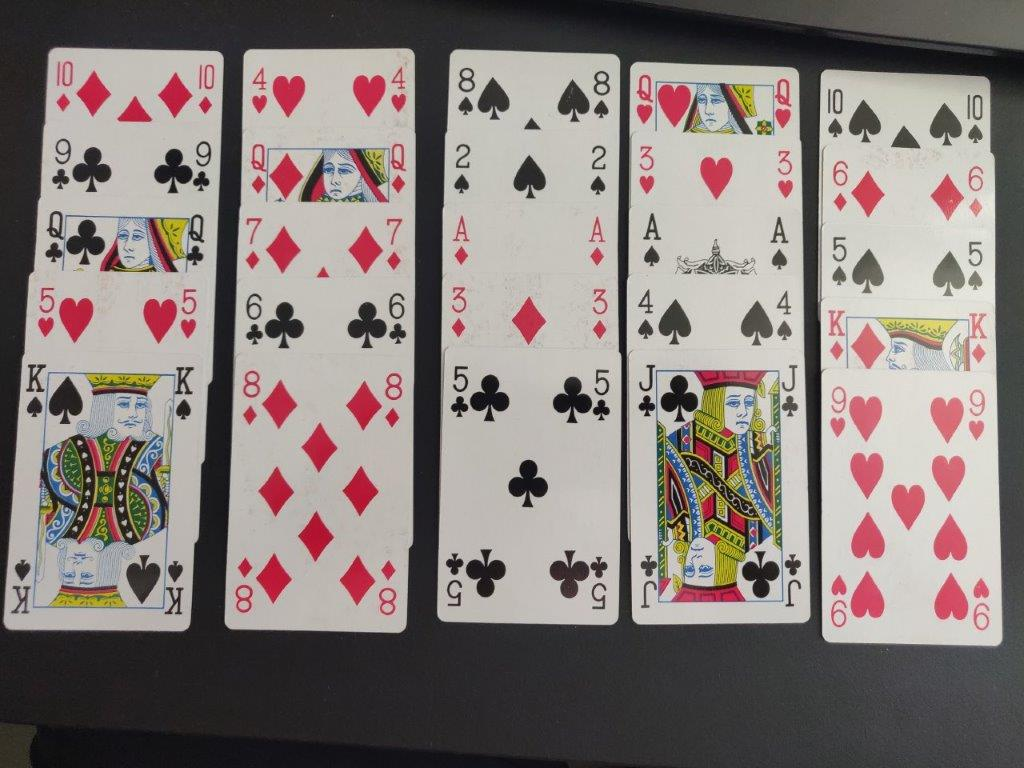10D: (50, 54, 77, 120), (191, 58, 217, 119)
10S: (823, 82, 850, 140), (963, 89, 987, 147)
2S: (448, 139, 478, 200), (585, 142, 609, 202)
3D: (446, 280, 471, 344), (587, 283, 610, 345)
3H: (633, 141, 661, 199), (772, 145, 797, 205)
4H: (247, 62, 273, 117), (385, 61, 410, 117)
4S: (632, 287, 657, 343), (772, 287, 795, 346)
5C: (590, 363, 616, 426), (447, 360, 472, 424)
5H: (178, 280, 201, 342), (35, 281, 57, 339)
5S: (825, 231, 852, 290), (963, 238, 987, 297)
6C: (383, 289, 410, 350), (239, 288, 265, 348)
6D: (827, 156, 854, 218), (962, 161, 988, 224)
7D: (380, 214, 406, 275), (241, 214, 265, 272)
8D: (235, 365, 266, 427), (379, 369, 406, 432)
8S: (452, 62, 480, 122), (587, 69, 615, 124)
9C: (187, 139, 217, 195), (48, 135, 74, 191)
9H: (965, 386, 990, 444), (827, 381, 851, 441)
AD: (450, 209, 476, 272), (586, 212, 610, 271)
AS: (638, 211, 668, 270), (765, 213, 793, 276)
JC: (635, 361, 661, 425), (777, 358, 801, 422)
KD: (823, 306, 850, 363), (965, 309, 989, 368)
KS: (170, 362, 199, 425), (22, 357, 49, 421)
QC: (42, 208, 69, 267), (183, 211, 207, 272)
QD: (246, 139, 270, 197), (387, 140, 408, 198)
QH: (769, 76, 794, 134), (633, 72, 657, 130)
